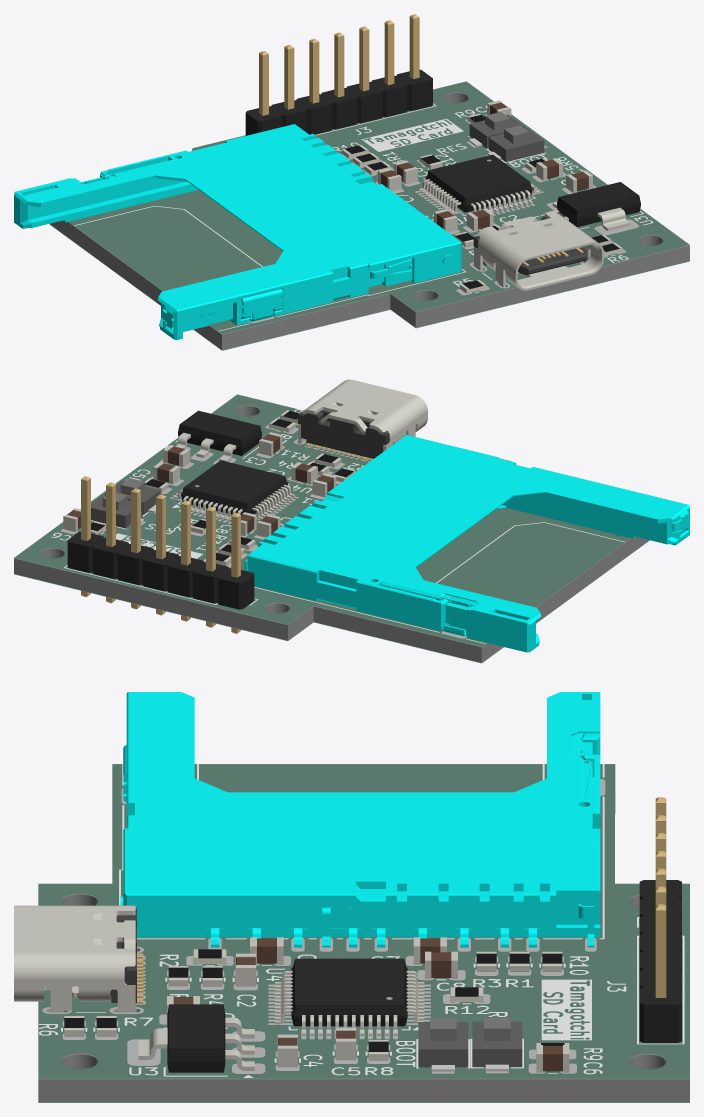
File: board.glb
3 views of the same model, one above another, from view 1: azimuth 30°, elevation 25°; view 2: azimuth 150°, elevation 25°; view 3: azimuth 270°, elevation 25° (orthographic). The views are drawn at different scales.
Parts seen in each view (by area): view 1: J2, =>[0:1:1:12], =>[0:1:1:11], J3, J1, U4, =>[0:1:1:10], U3, =>[0:1:1:9], BOOT, RES; view 2: J2, =>[0:1:1:12], =>[0:1:1:11], J3, J1, U4, U3, =>[0:1:1:10], =>[0:1:1:9], RES, BOOT, C4 (+3 smaller); view 3: J2, =>[0:1:1:12], =>[0:1:1:11], J1, U4, =>[0:1:1:10], J3, =>[0:1:1:9], U3, RES, BOOT, C6 (+6 smaller).
Boxes of the visible parts, bbox=[...] form: J2: bbox=[14, 124, 461, 339]; =>[0:1:1:12]: bbox=[50, 82, 689, 350]; =>[0:1:1:11]: bbox=[50, 81, 689, 350]; J3: bbox=[245, 14, 432, 135]; J1: bbox=[473, 211, 603, 290]; U4: bbox=[418, 154, 539, 214]; =>[0:1:1:10]: bbox=[74, 103, 653, 331]; U3: bbox=[552, 182, 640, 230]; =>[0:1:1:9]: bbox=[249, 114, 638, 323]; BOOT: bbox=[487, 125, 545, 161]; RES: bbox=[468, 112, 525, 148]; J2: bbox=[244, 435, 689, 652]; =>[0:1:1:12]: bbox=[14, 395, 649, 662]; =>[0:1:1:11]: bbox=[14, 394, 649, 663]; J3: bbox=[67, 476, 254, 633]; J1: bbox=[298, 379, 427, 461]; U4: bbox=[173, 460, 294, 521]; U3: bbox=[176, 410, 261, 461]; =>[0:1:1:10]: bbox=[51, 409, 624, 643]; =>[0:1:1:9]: bbox=[61, 416, 466, 638]; RES: bbox=[91, 493, 143, 528]; BOOT: bbox=[105, 478, 160, 514]; C4: bbox=[163, 445, 190, 467]; J2: bbox=[120, 692, 600, 947]; =>[0:1:1:12]: bbox=[38, 765, 689, 1102]; =>[0:1:1:11]: bbox=[38, 764, 689, 1102]; J1: bbox=[14, 905, 143, 1012]; U4: bbox=[275, 958, 424, 1035]; =>[0:1:1:10]: bbox=[39, 763, 684, 1077]; J3: bbox=[639, 797, 681, 1042]; =>[0:1:1:9]: bbox=[42, 779, 605, 1073]; U3: bbox=[138, 1004, 254, 1072]; RES: bbox=[472, 1017, 522, 1071]; BOOT: bbox=[418, 1018, 468, 1071]; C6: bbox=[536, 1045, 569, 1072].
Size of the model in its own units: 0.0491 by 0.0115 by 0.0407.
